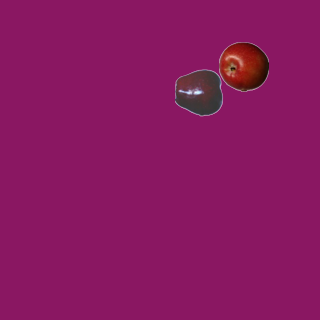Apple Braeburn: (218, 41, 268, 91)
Apple Red Delicious: (174, 67, 224, 117)
